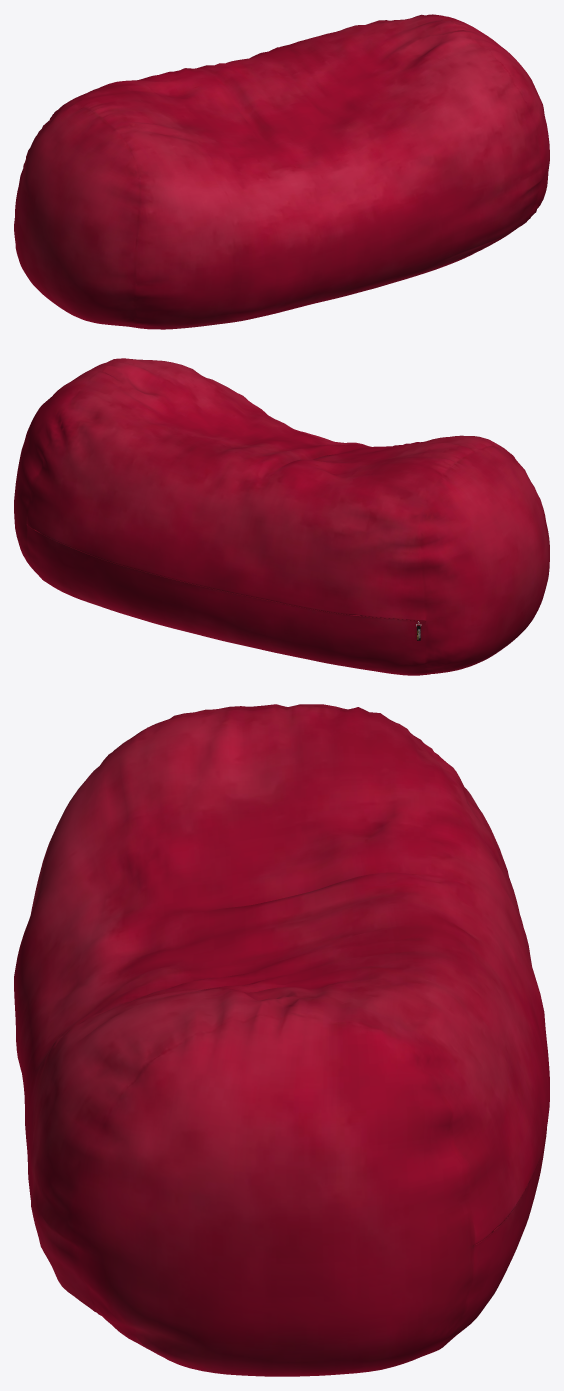
Rendered from B07TP4SPQ9.glb.
3 views of the same model, one above another, from view 1: azimuth 30°, elevation 25°; view 2: azimuth 150°, elevation 25°; view 3: azimuth 270°, elevation 25° (orthographic). The views are drawn at different scales.
Visible parts, largest first — view 1: RootNode; view 2: RootNode; view 3: RootNode.
Boxes of the visible parts, left/top/right/bottom form: RootNode: left=14, top=14, right=549, bottom=329; RootNode: left=14, top=358, right=549, bottom=675; RootNode: left=14, top=704, right=549, bottom=1376.
Bounding box in the file's own units: 2.29 × 0.8665 × 1.22.
Materials: 1 (1 with a texture image).
